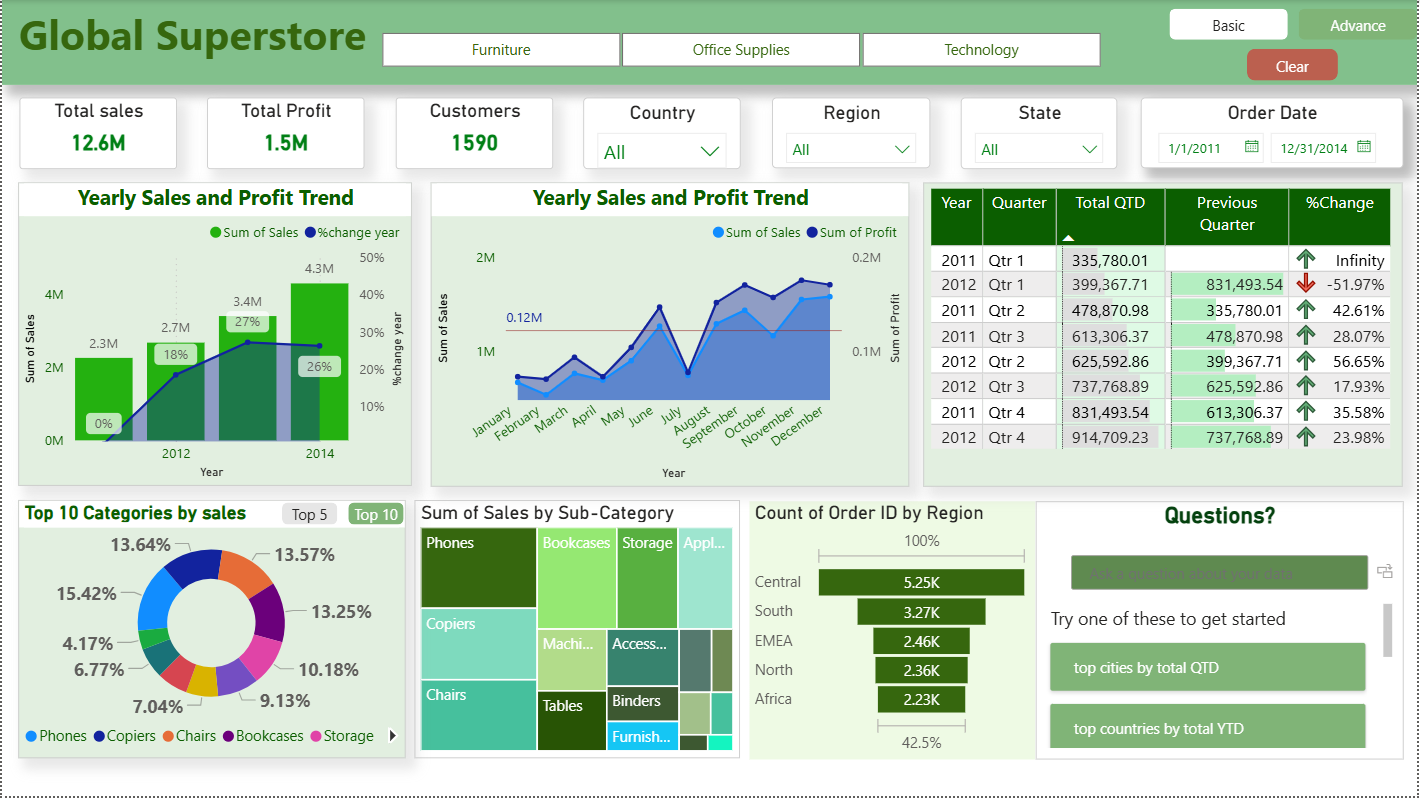

Layout of this report page (visuals, bound fields, positions):
{"tool":"powerbi","page":{"name":"Advance","canvas":[1280,720],"ordinal":2},"visuals":[{"type":"textbox","box":[0,0,1280,76.5],"z":0},{"type":"card","title":"Total sales","fields":{"Values":["Sum(Orders.Sales)"]},"box":[15.6,87.9,142,65],"z":1000},{"type":"card","title":"Total Profit","fields":{"Values":["Sum(Orders.Profit)"]},"box":[185.7,87.9,142,65],"z":2000},{"type":"card","title":"Customers","fields":{"Values":["Count(Orders.Customer ID)"]},"box":[355.8,87.9,142,65],"z":3000},{"type":"slicer","title":"Country","fields":{"Values":["Orders.Country"]},"box":[525.9,87.9,142,65],"z":4000},{"type":"slicer","title":"Region","fields":{"Values":["Orders.Region"]},"box":[696.1,87.9,143,64],"z":5000},{"type":"slicer","title":"State","fields":{"Values":["Orders.State"]},"box":[867.2,87.9,141.9,65.1],"z":6000},{"type":"slicer","title":"Order Date","fields":{"Values":["Orders.Order Date"]},"box":[1030.2,88.4,237.2,64],"z":7000},{"type":"slicer","fields":{"Values":["Orders.Category"]},"box":[317.8,22.2,700,44.4],"z":8000},{"type":"treemap","fields":{"Group":["Orders.Sub-Category"],"Values":["Sum(Orders.Sales)"]},"box":[373.3,452.2,294.4,233.3],"z":10000},{"type":"funnel","fields":{"Category":["Orders.Region"],"Y":["Count(Orders.Order ID)"]},"box":[676.2,453.8,258.8,233.8],"z":11000},{"type":"actionButton","box":[1126.7,44.4,82.2,28.9],"z":12000},{"type":"lineClusteredColumnComboChart","title":"Yearly Sales and Profit Trend","fields":{"Category":["Order Date.Date.Variation.Date Hierarchy.Year"],"Y":["Sum(Orders.Sales)"],"Y2":["Orders.%change year"]},"box":[15.1,165.1,355.8,274.4],"z":13000},{"type":"lineChart","title":"Yearly Sales and Profit Trend","fields":{"Category":["Order Date.Date.Variation.Date Hierarchy.Month"],"Y":["Sum(Orders.Sales)"],"Y2":["Sum(Orders.Profit)"]},"box":[387.5,165,432.5,275],"z":14000},{"type":"donutChart","title":"Top 10 Categories by sales","fields":{"Y":["Sum(Orders.Sales)"],"Category":["Orders.Sub-Category"]},"box":[15,452.1,350,233.6],"z":15000},{"type":"bookmarkNavigator","box":[253.6,454.3,110,20.7],"z":16000},{"type":"qnaVisual","title":"Questions?","box":[935,453.8,332.5,233.8],"z":17000},{"type":"pageNavigator","box":[1055.6,7.8,224.4,28.9],"z":18000},{"type":"tableEx","fields":{"Values":["Order Date.Date.Variation.Date Hierarchy.Year","Order Date.Date.Variation.Date Hierarchy.Quarter","Orders.Total QTD","Orders.Previous Quarter","Orders.%change quarter"]},"box":[833.8,165,433.8,275],"z":19000}]}

Visuals, with their boxes in screenshot pixels (x1, y1, x2, y2), scaled from the page's 1280x720 canvas onto the 1420x798 screenshot:
textbox: Rect(0, 0, 1419, 85)
"Total sales" card: Rect(17, 97, 175, 169)
"Total Profit" card: Rect(206, 97, 364, 169)
"Customers" card: Rect(395, 97, 552, 169)
"Country" slicer: Rect(583, 97, 741, 169)
"Region" slicer: Rect(772, 97, 931, 168)
"State" slicer: Rect(962, 97, 1119, 170)
"Order Date" slicer: Rect(1143, 98, 1406, 169)
slicer - Orders.Category: Rect(353, 25, 1129, 74)
treemap - Orders.Sub-Category x Sum(Orders.Sales): Rect(414, 501, 741, 760)
funnel - Orders.Region x Count(Orders.Order ID): Rect(750, 503, 1037, 762)
actionButton: Rect(1250, 49, 1341, 81)
"Yearly Sales and Profit Trend" lineClusteredColumnComboChart: Rect(17, 183, 411, 487)
"Yearly Sales and Profit Trend" lineChart: Rect(430, 183, 910, 488)
"Top 10 Categories by sales" donutChart: Rect(17, 501, 405, 760)
bookmarkNavigator: Rect(281, 504, 403, 526)
"Questions?" qnaVisual: Rect(1037, 503, 1406, 762)
pageNavigator: Rect(1171, 9, 1419, 41)
tableEx - Order Date.Date.Variation.Date Hierarchy.Year x Order Date.Date.Variation.Date Hierarchy.Quarter: Rect(925, 183, 1406, 488)
